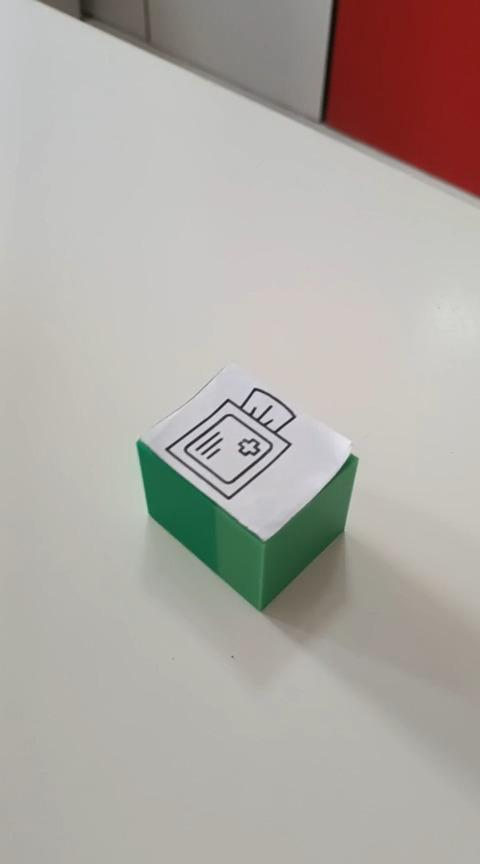Gauze: (135, 361, 359, 612)
